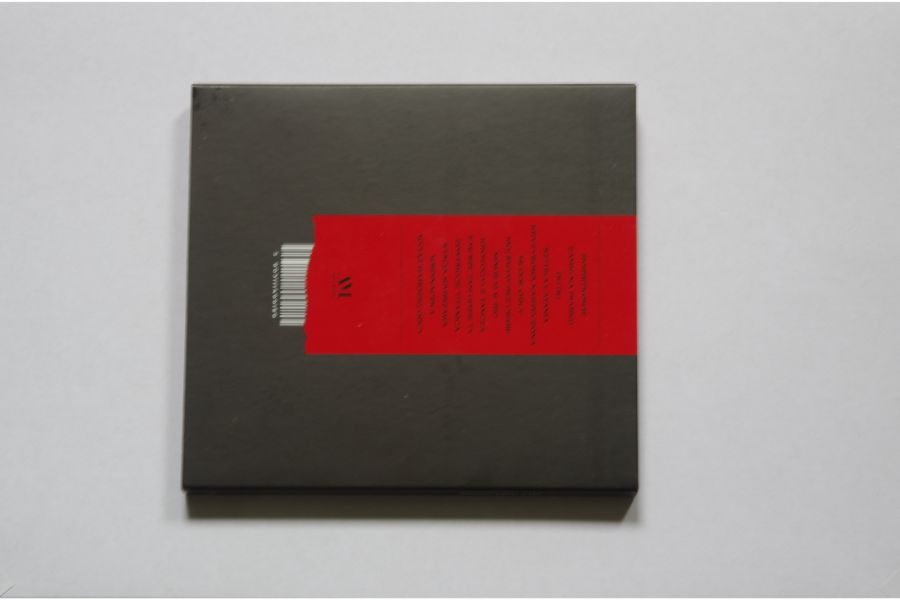album: (182, 81, 641, 493)
